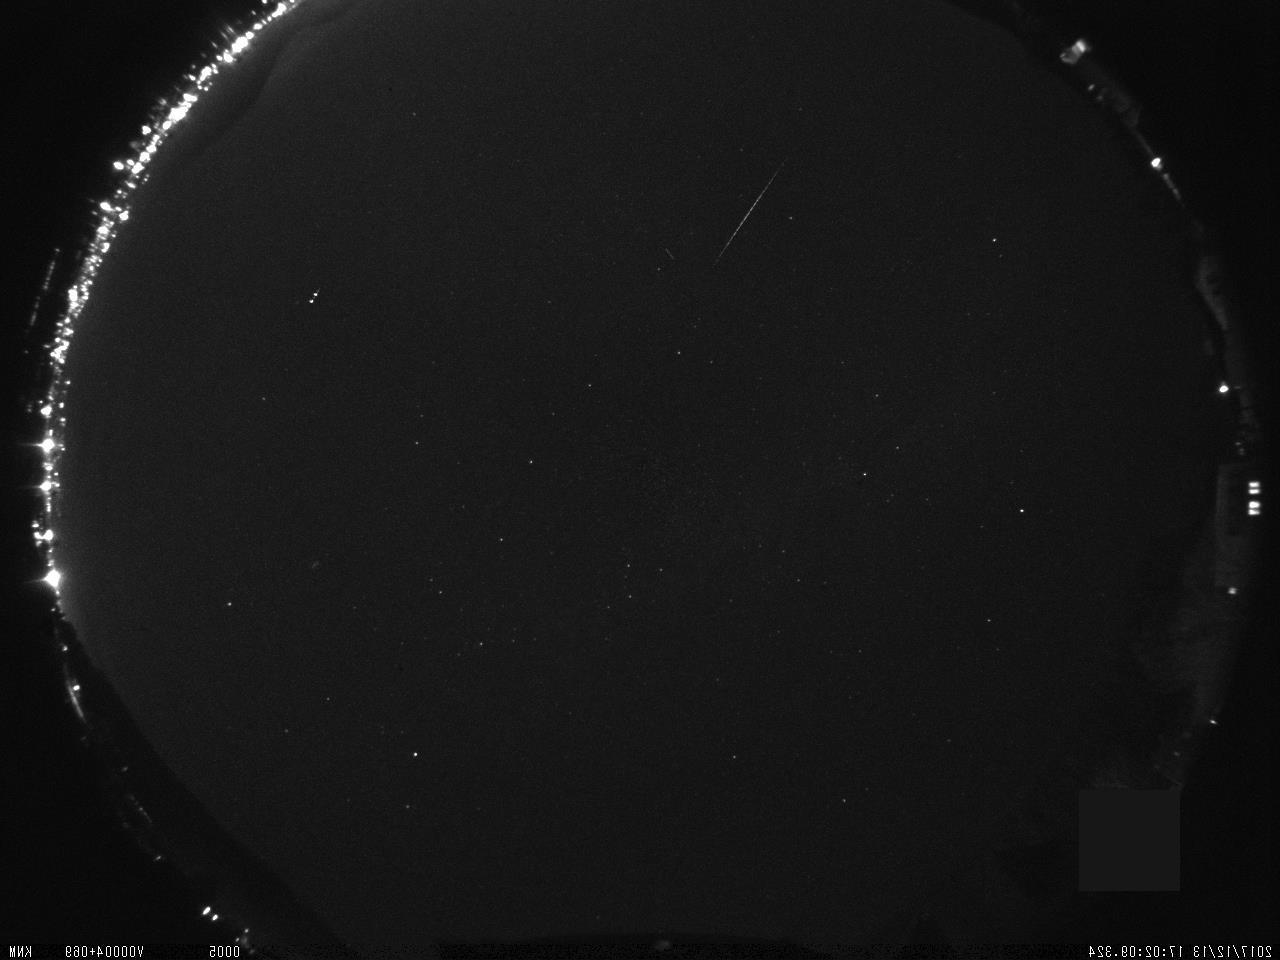meteor: (685, 147, 804, 286)
